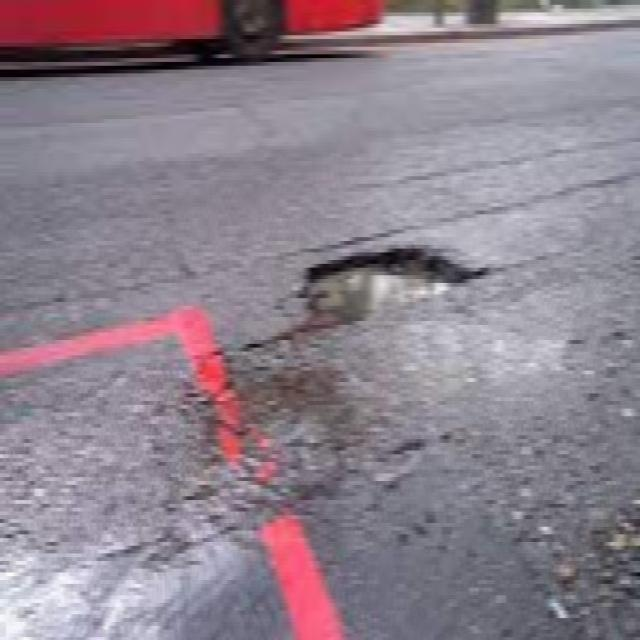Pothole: (259, 235, 499, 342)
